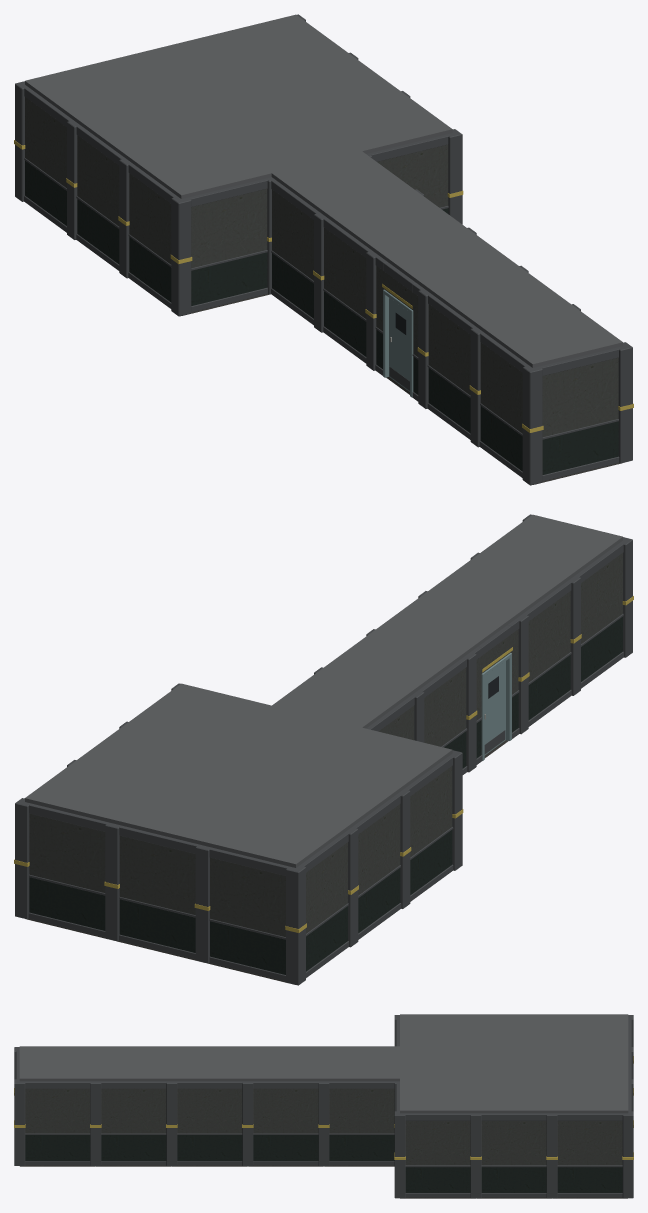
Rendered from facility.glb.
3 views of the same model, one above another, from view 1: azimuth 30°, elevation 25°; view 2: azimuth 150°, elevation 25°; view 3: azimuth 270°, elevation 25° (orthographic). The views are drawn at different scales.
Parts seen in each view (by area): view 1: room, corridor, structure; view 2: room, corridor, structure; view 3: corridor, room, structure.
Part boxes in pixels (box(x1,y1,x2,y2)): room: box(21, 14, 453, 315); corridor: box(271, 151, 624, 484); structure: box(14, 14, 633, 485); room: box(21, 683, 453, 984); corridor: box(272, 514, 626, 774); structure: box(14, 514, 633, 985); corridor: box(16, 1046, 399, 1166); room: box(396, 1014, 631, 1198); structure: box(14, 1015, 633, 1198).
Bounding box in the file's own units: 7.88 × 3.2 × 20.38.
13 materials, 3 textured.
